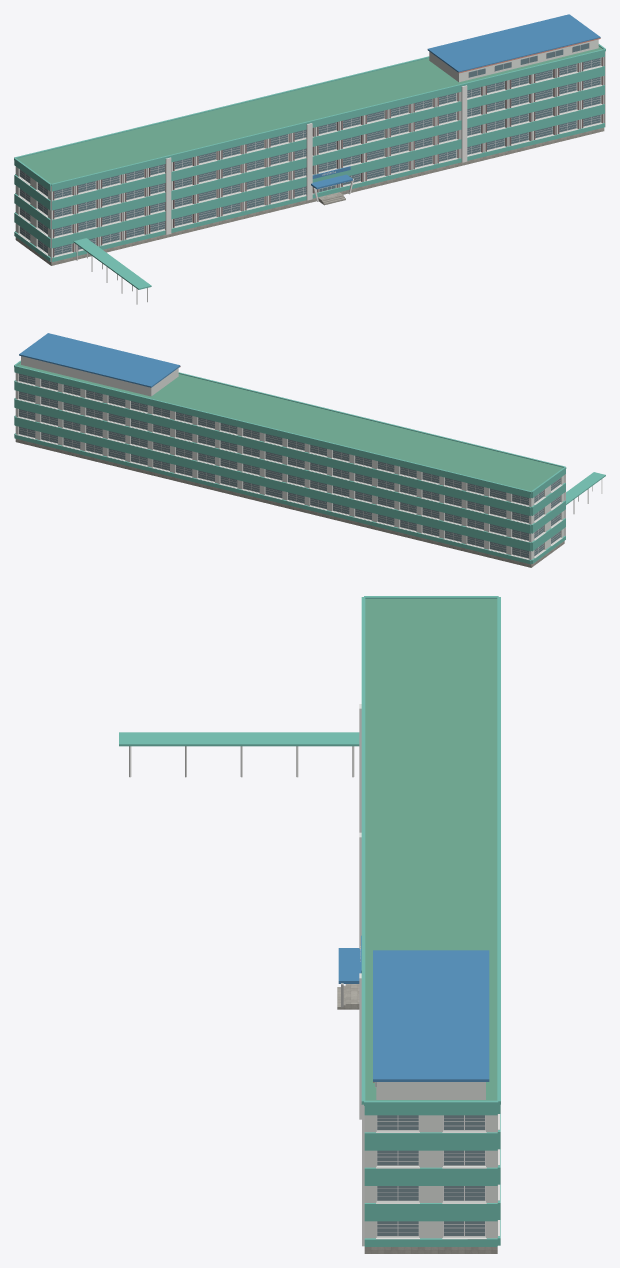
3 views of the same model, one above another, from view 1: azimuth 30°, elevation 25°; view 2: azimuth 150°, elevation 25°; view 3: azimuth 270°, elevation 25° (orthographic). The views are drawn at different scales.
Visible parts, largest first — view 1: main__oldmint, main__oldroof, main__glass, main__oldwall, main__frame, main__oldblue, main__cap, main__oldbrown, main__sill, main__stone, main__sideglass; view 2: main__oldmint, main__sideglass, main__oldroof, main__oldwall, main__frame, main__oldblue, main__sill, main__stone; view 3: main__oldroof, main__oldmint, main__oldblue, main__oldwall, main__sideglass, main__frame, main__cap, main__stone.
Part boxes in pixels (x1,y1,x2,y2): main__oldmint: (14, 44, 605, 289); main__oldroof: (17, 46, 602, 183); main__glass: (54, 43, 600, 255); main__oldwall: (15, 39, 603, 256); main__frame: (19, 58, 600, 255); main__oldblue: (311, 14, 600, 189); main__cap: (50, 43, 605, 304); main__oldbrown: (53, 57, 603, 257); main__sill: (18, 66, 602, 257); main__stone: (15, 127, 604, 265); main__sideglass: (20, 169, 47, 252); main__oldmint: (14, 360, 605, 564); main__sideglass: (19, 373, 560, 558); main__oldroof: (17, 363, 562, 491); main__oldwall: (15, 356, 564, 559); main__frame: (18, 374, 560, 558); main__oldblue: (19, 333, 180, 387); main__sill: (17, 381, 562, 559); main__stone: (15, 439, 564, 567); main__oldroof: (365, 599, 497, 1100); main__oldmint: (119, 596, 500, 1246); main__oldblue: (338, 935, 489, 1081); main__oldwall: (364, 1082, 497, 1238); main__sideglass: (377, 1115, 484, 1235); main__frame: (376, 1115, 485, 1236); main__cap: (129, 704, 375, 1246); main__stone: (364, 1247, 497, 1253).
Bounding box in the file's own units: 107 × 17.13 × 34.25.
Materials: 12 (1 with a texture image).
